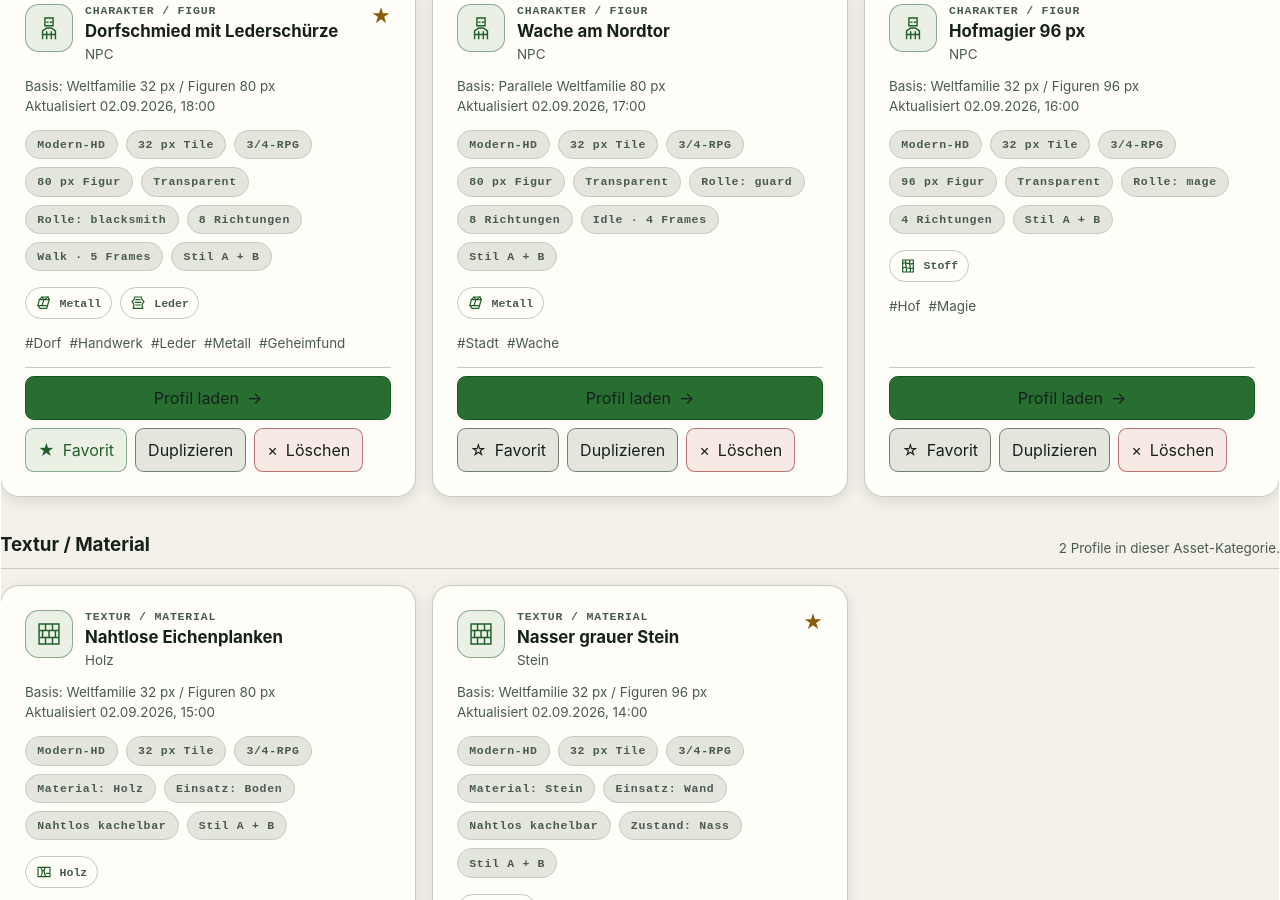
Test: profile library user flows › fails closed when confirmed deletion cannot be written
(page scrolled)
Click the button with aria-label "Profil „Wache am Nordtor“ löschen": (741, 450) [686,428,795,472]
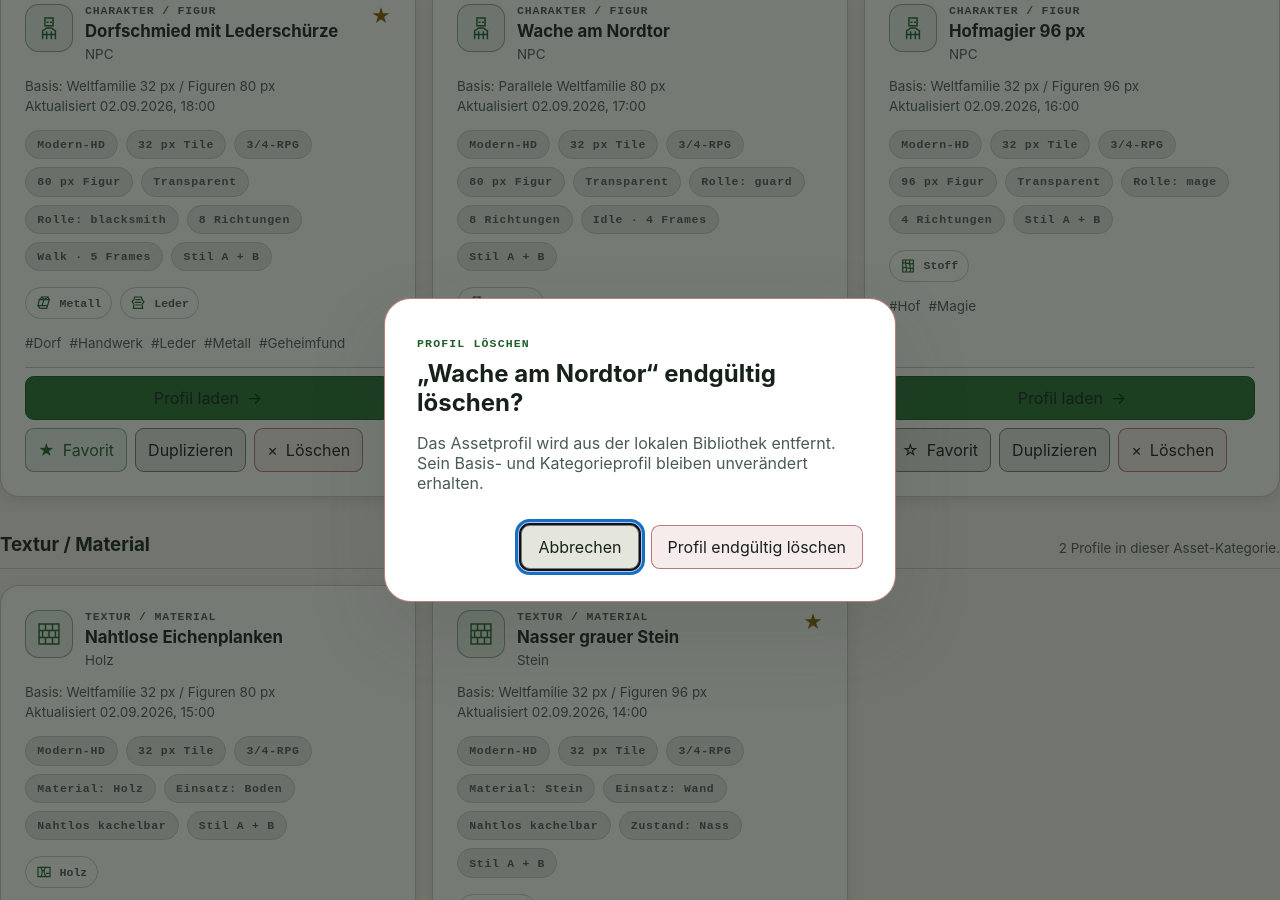
Click the button "Profil endgültig löschen": (757, 547) [651,525,863,569]
(page scrolled)
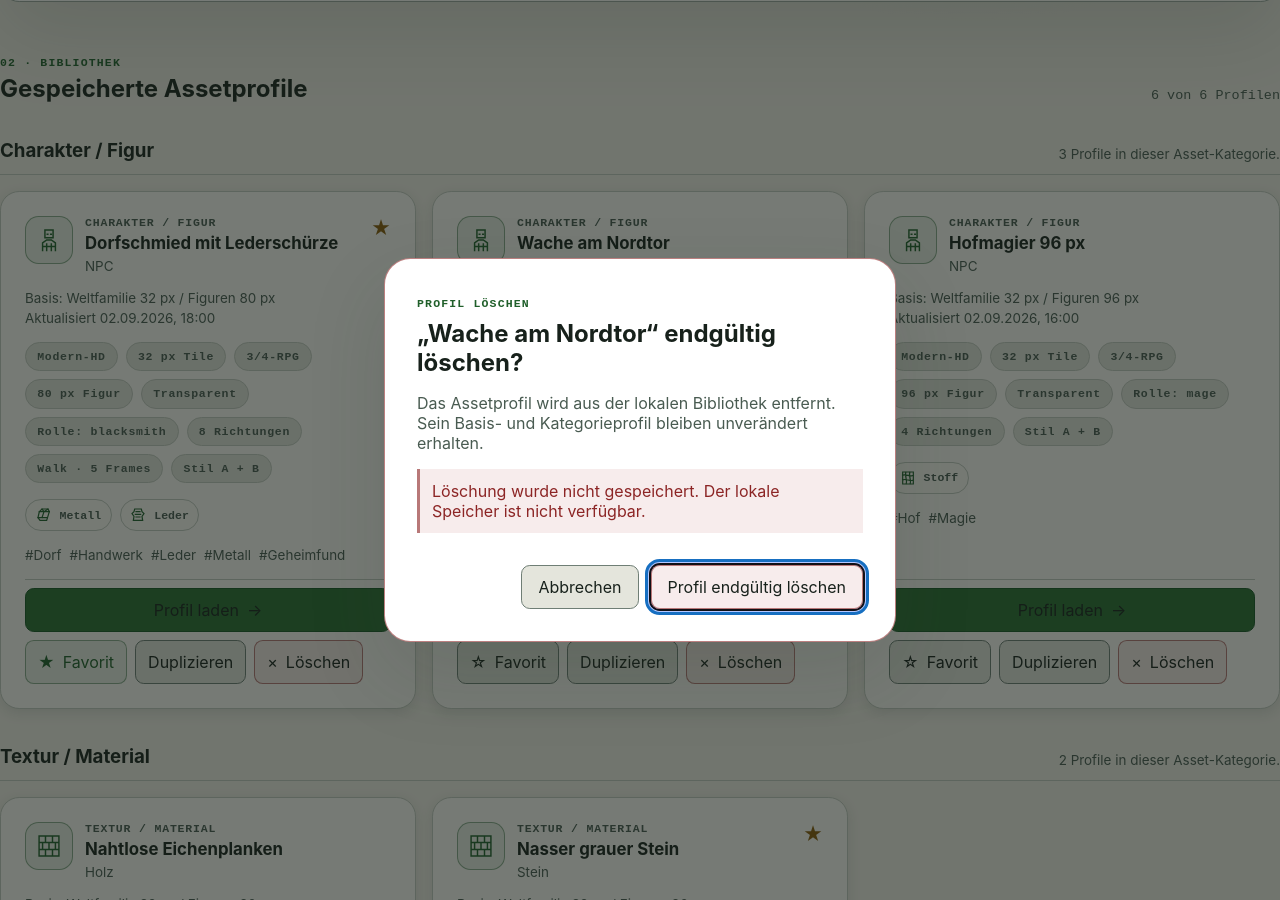
Expected: the element "Wache am Nordtor" is shown, [432,191,848,709]
Result: the dialog "„Wache am Nordtor“ endgültig löschen?" is shown at [384,258,896,642]
Result: the message reads "Löschung wurde nicht gespeichert. Der lokale Speicher ist nicht verfügbar." at [432,481,780,521]
